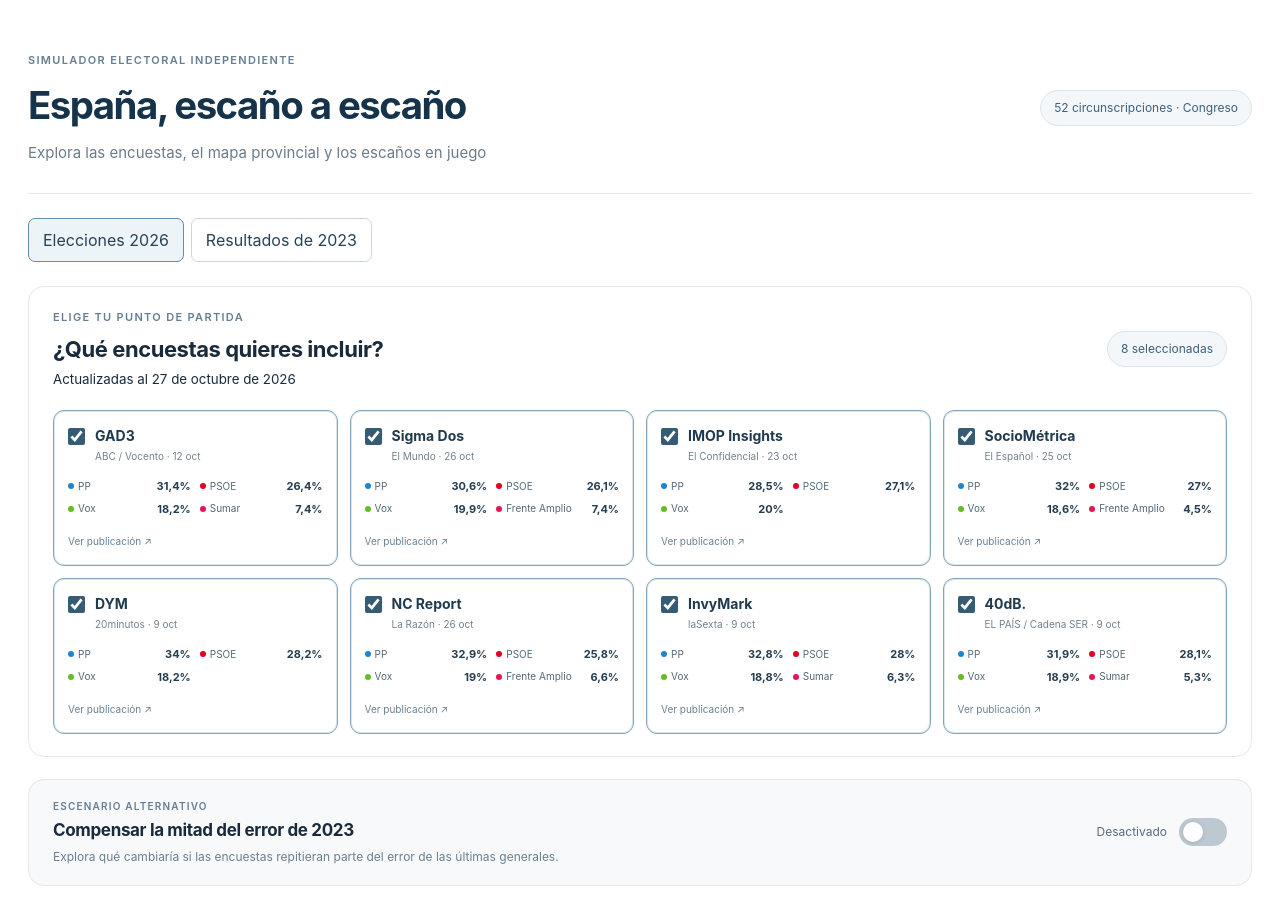
Test: muestra encuestas antes del interruptor y guarda la selección
The width and height of the screenshot is (1280, 900).
Expected: the element that starts with "Elige tu punto de partida" shows "31,4%", [28,286,1252,757]
Click the checkbox named "Incluir encuesta de GAD3" at point(76, 437), box [68,428,85,445]
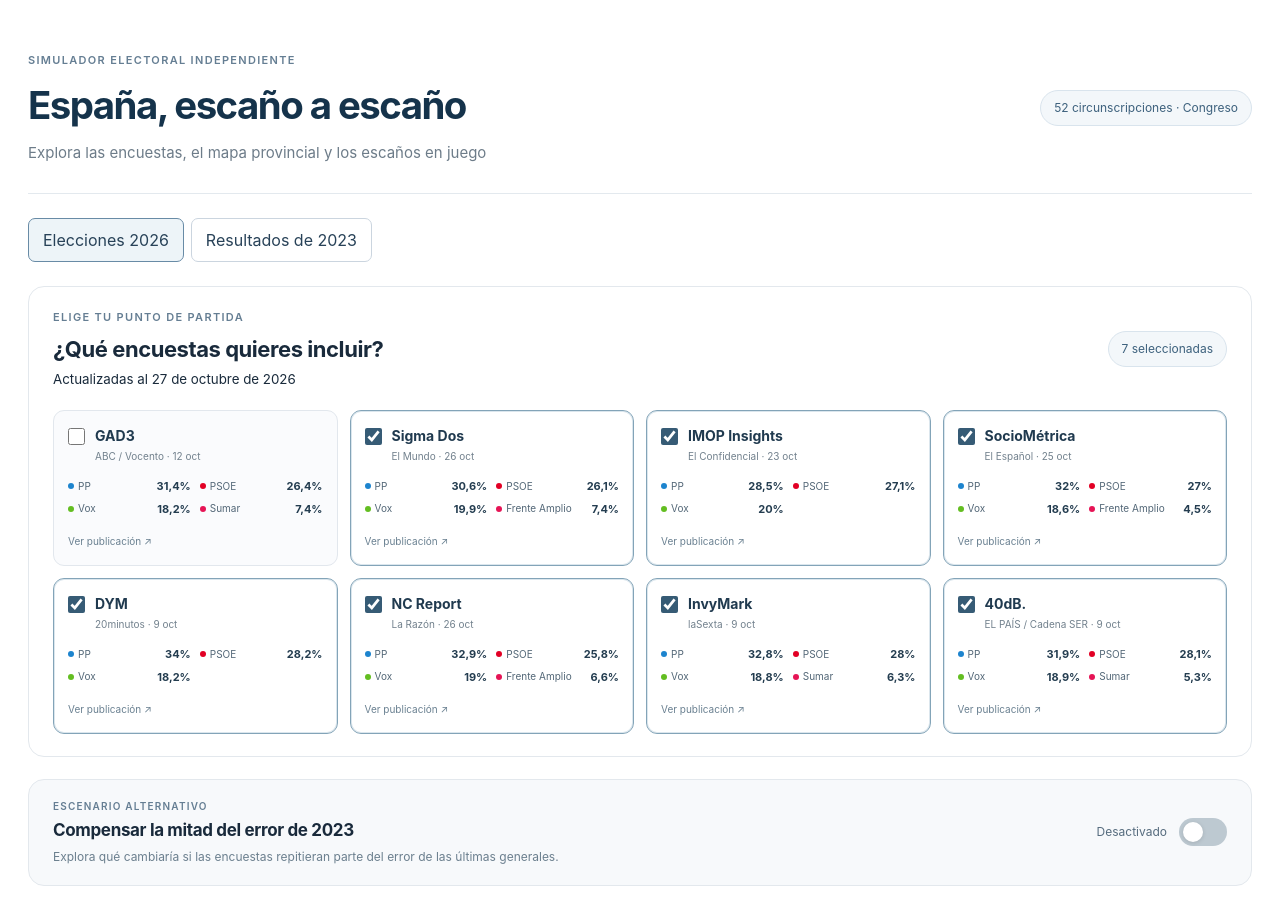
Now the element that starts with "Elige tu punto de partida" shows "7 seleccionadas", box [28,286,1252,757]
